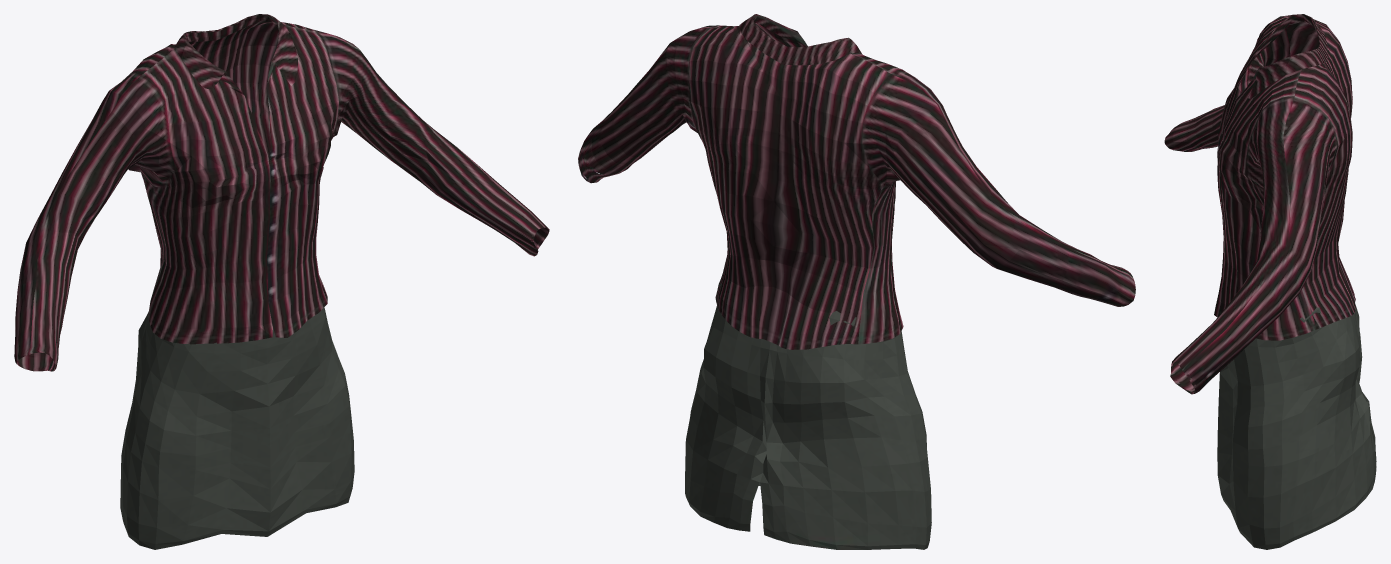
Rendered from mhw_female_elegantsuit01.glb.
3 views of the same model, side by side, from view 1: azimuth 30°, elevation 25°; view 2: azimuth 150°, elevation 25°; view 3: azimuth 270°, elevation 25° (orthographic). The views are drawn at different scales.
Visible parts, largest first — view 1: mhw_female_elegantsuit01; view 2: mhw_female_elegantsuit01; view 3: mhw_female_elegantsuit01.
Boxes of the visible parts, box(x1,y1,x2,y2) form: mhw_female_elegantsuit01: box(14, 14, 549, 549); mhw_female_elegantsuit01: box(578, 14, 1135, 549); mhw_female_elegantsuit01: box(1164, 14, 1376, 549).
Size of the model in its own units: 1.09 by 0.9528 by 0.3904.
1 material, 1 textured.
